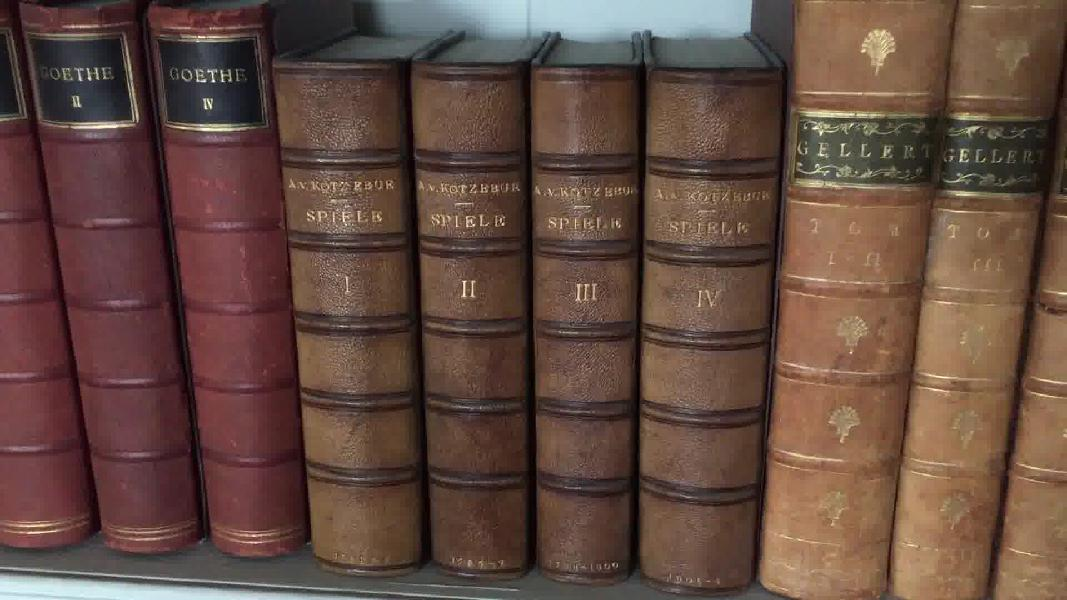Aa6-14_17: (258, 52, 781, 596)
